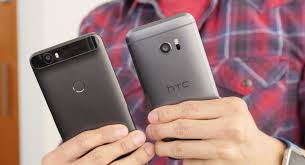htc: (122, 11, 221, 101)
